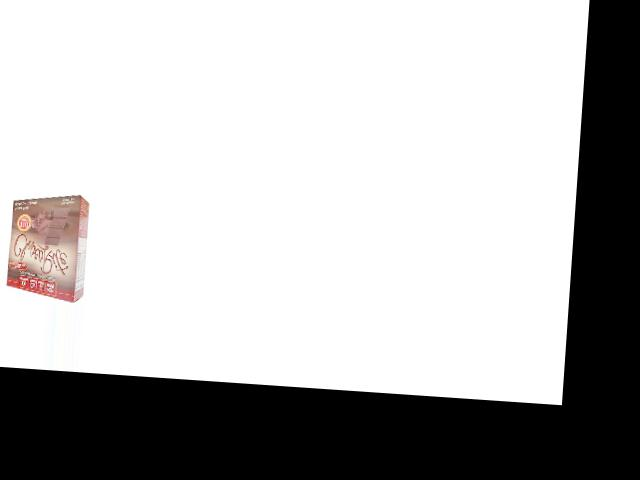chocolate: (3, 190, 89, 300)
